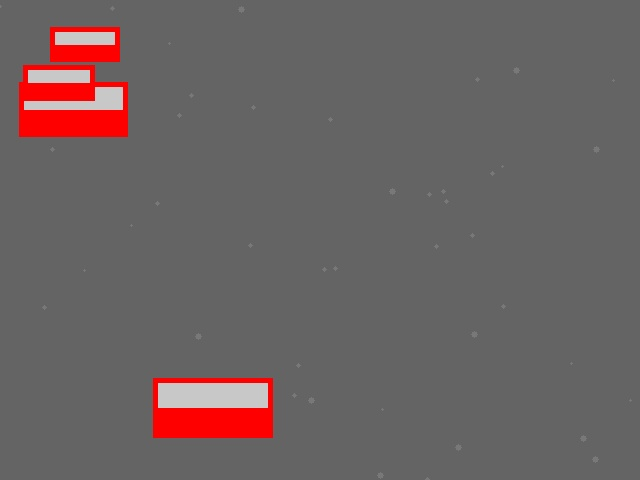car: (153, 378, 272, 437), (19, 82, 127, 136), (23, 65, 94, 100), (50, 27, 119, 61)
